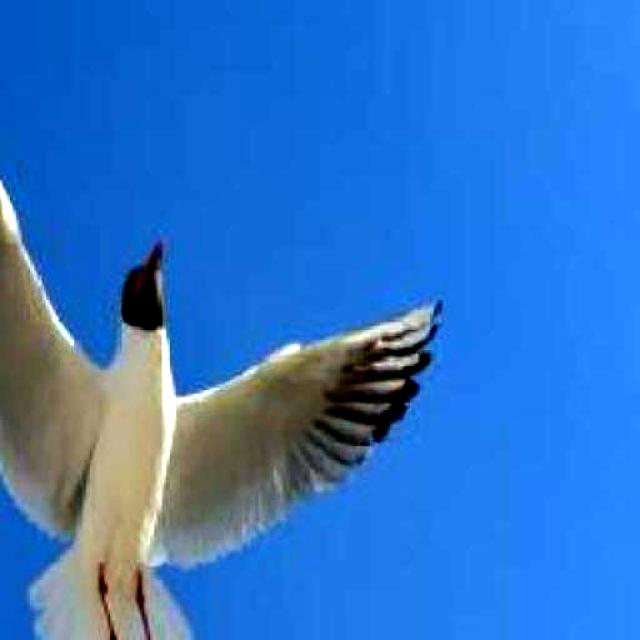airplane: (0, 0, 440, 640)
